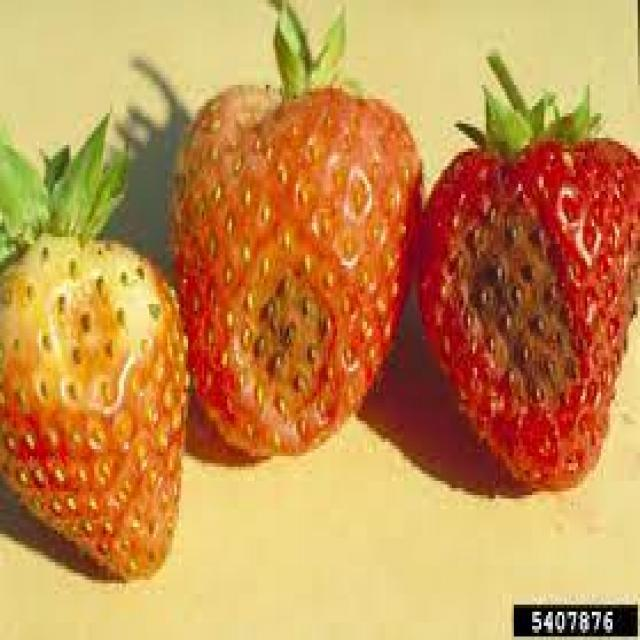Mancha negra Antracnosis: (182, 92, 416, 453), (426, 126, 628, 492)
